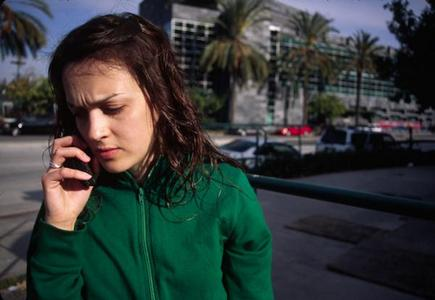person: (27, 14, 277, 300)
